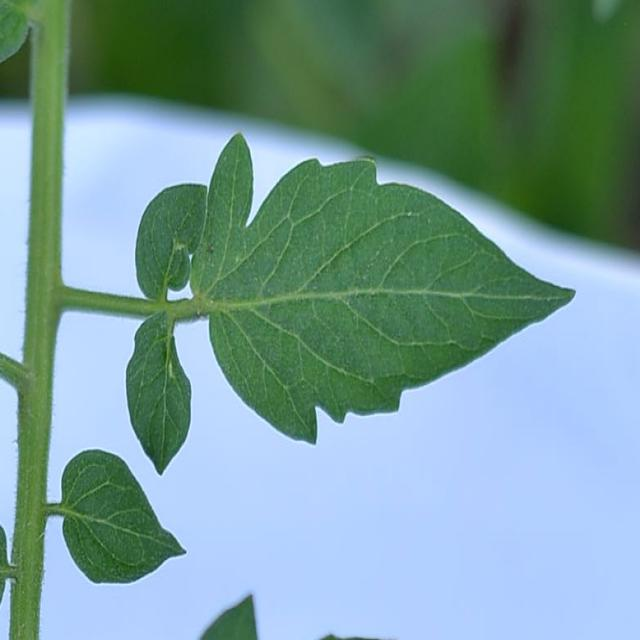healthy: (111, 126, 578, 477), (52, 450, 193, 586)
